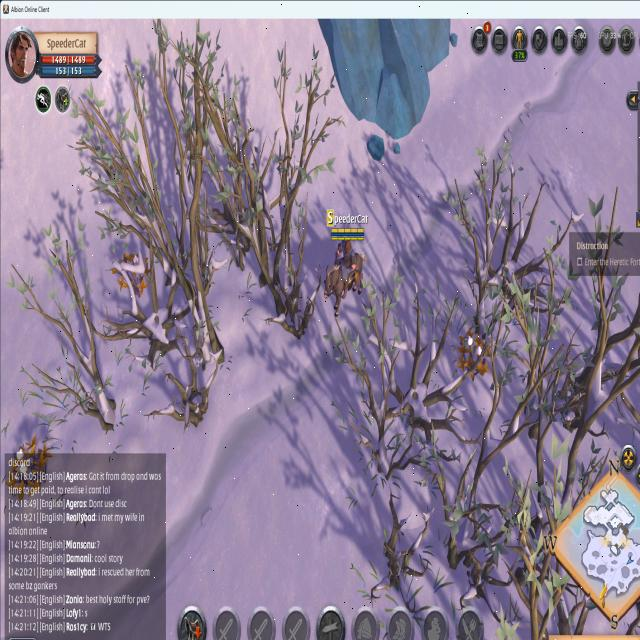cotton: (7, 433, 50, 505), (457, 322, 493, 382), (110, 248, 150, 298)
